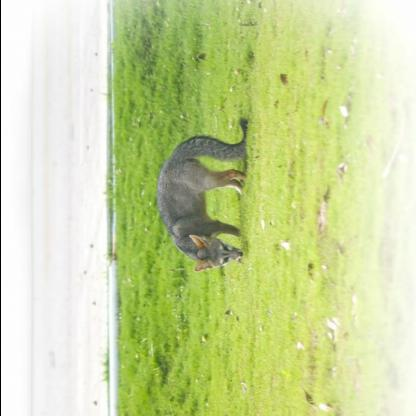zorro: (153, 110, 251, 278)
